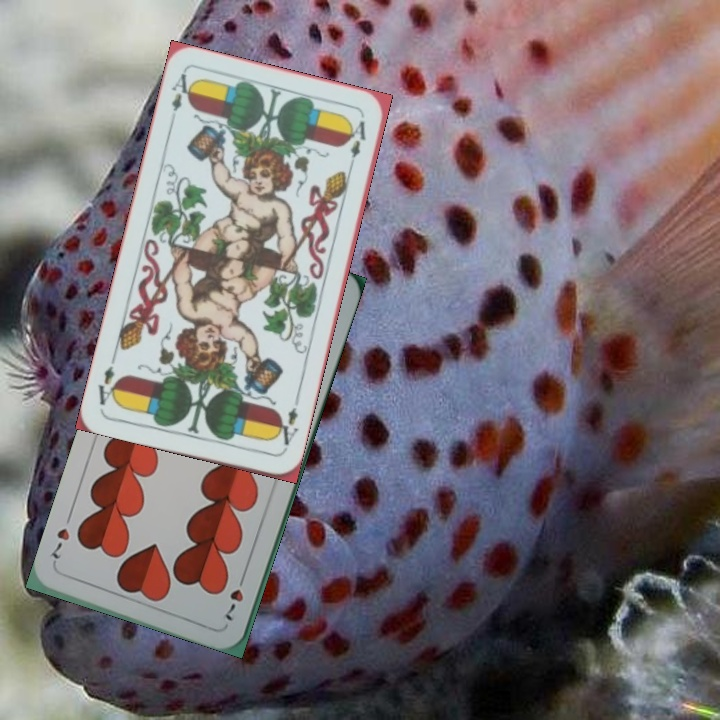EA: (166, 69, 196, 127), (271, 403, 301, 454)
H7: (221, 569, 249, 624)
